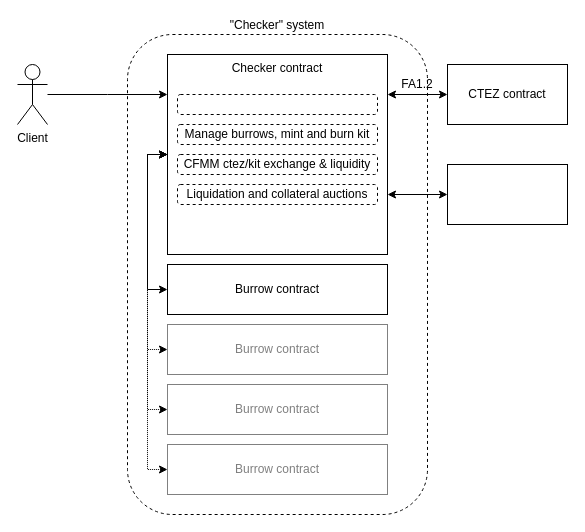
Some shapes in this 585 by 532 pixel diagram are drawn without their labels. The centre of each missing label's shape, as x and y in pixels:
"FA2 / TZIP-16" goes at point (277, 104).
"Oracle contract" goes at point (507, 194).
